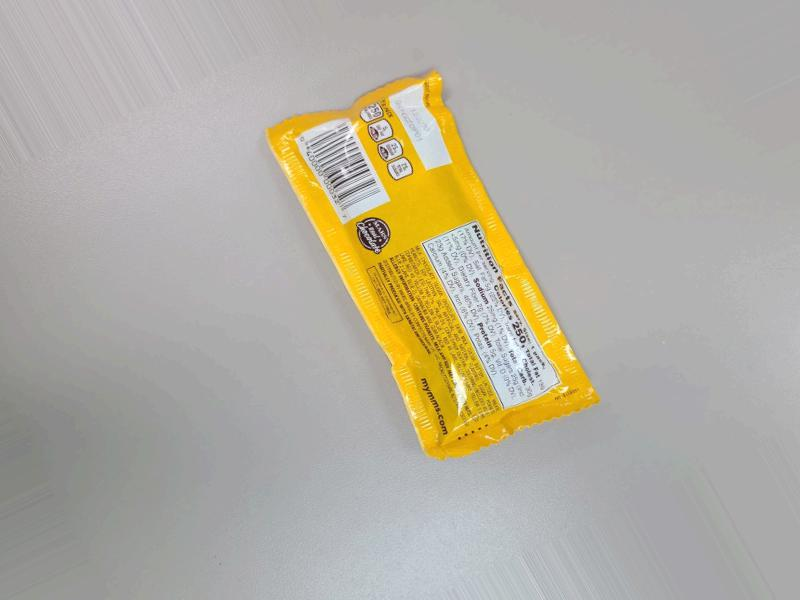m&m: (279, 55, 598, 466)
